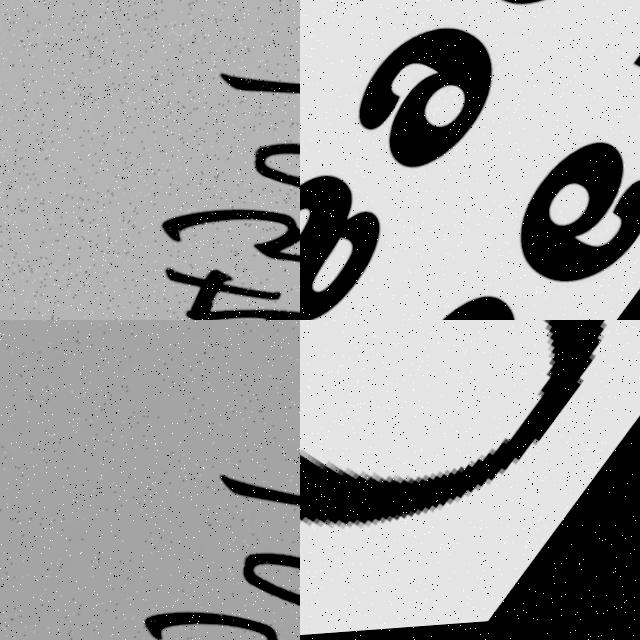0: (444, 0, 640, 52)
4: (135, 206, 300, 320)
5: (133, 122, 300, 320), (122, 540, 300, 640), (382, 265, 589, 320)
6: (491, 116, 640, 320), (215, 69, 300, 294), (208, 496, 300, 640)
7: (184, 0, 300, 225), (190, 400, 300, 626), (594, 0, 640, 184)
8: (300, 142, 421, 320)
9: (331, 0, 528, 198)
C: (300, 320, 613, 532)
